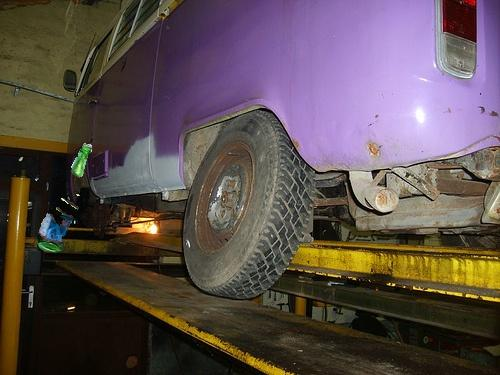tampered: (38, 144, 92, 253)
